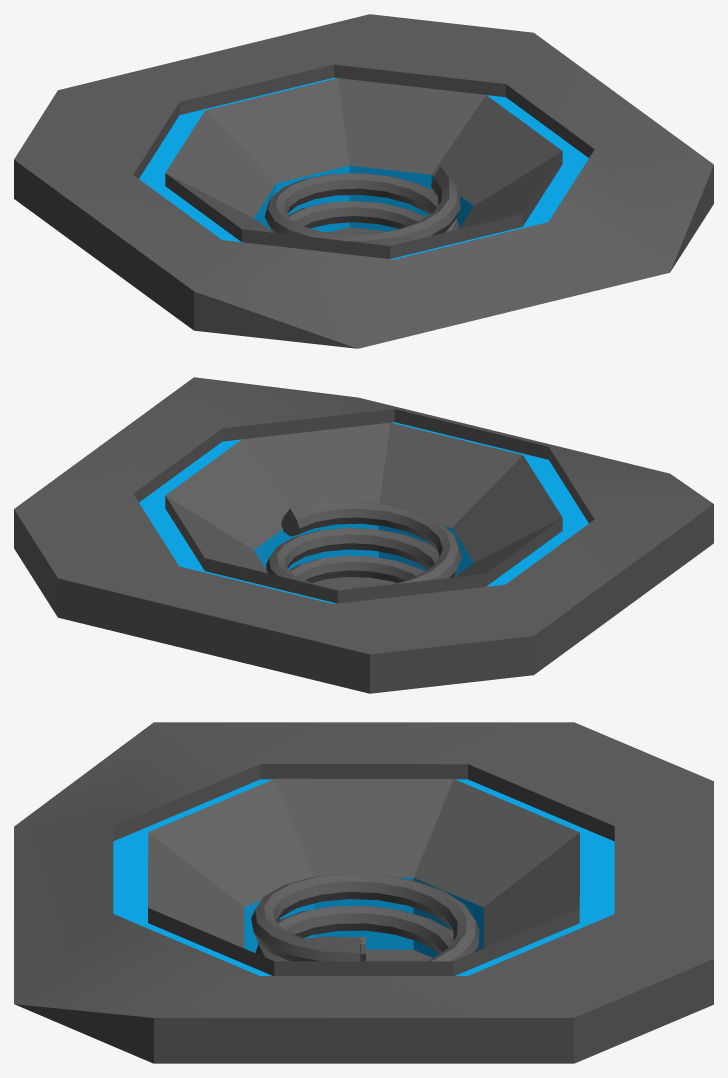
Rendered from Bounce_base_shape.fbx.
The picture shows the model from 3 angles, top to bottom: view 1: azimuth 30°, elevation 25°; view 2: azimuth 150°, elevation 25°; view 3: azimuth 270°, elevation 25°; orthographic projection. The views are drawn at different scales.
Parts seen in each view (by area): view 1: polySurface46; view 2: polySurface46; view 3: polySurface46.
Boxes of the visible parts, <box> form: polySurface46: <box>14,14,713,348</box>; polySurface46: <box>14,377,713,693</box>; polySurface46: <box>14,722,713,1063</box>.
Size of the model in its own units: 0.2358 by 0.0484 by 0.2358.
